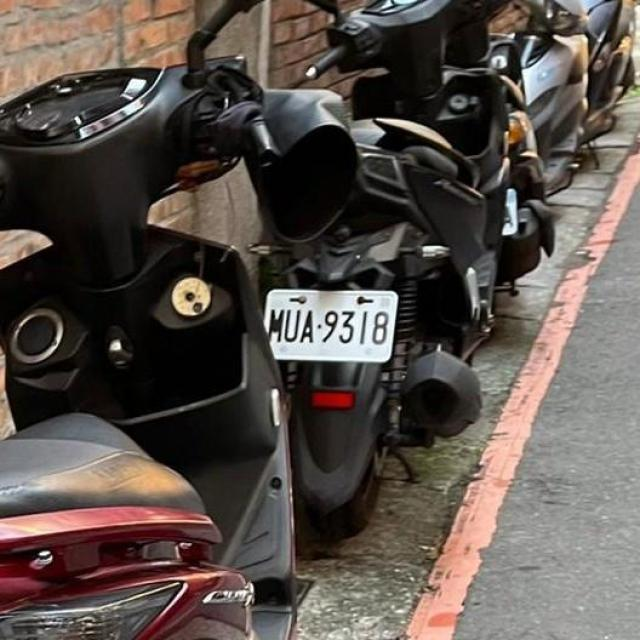W: (258, 278, 406, 370)
